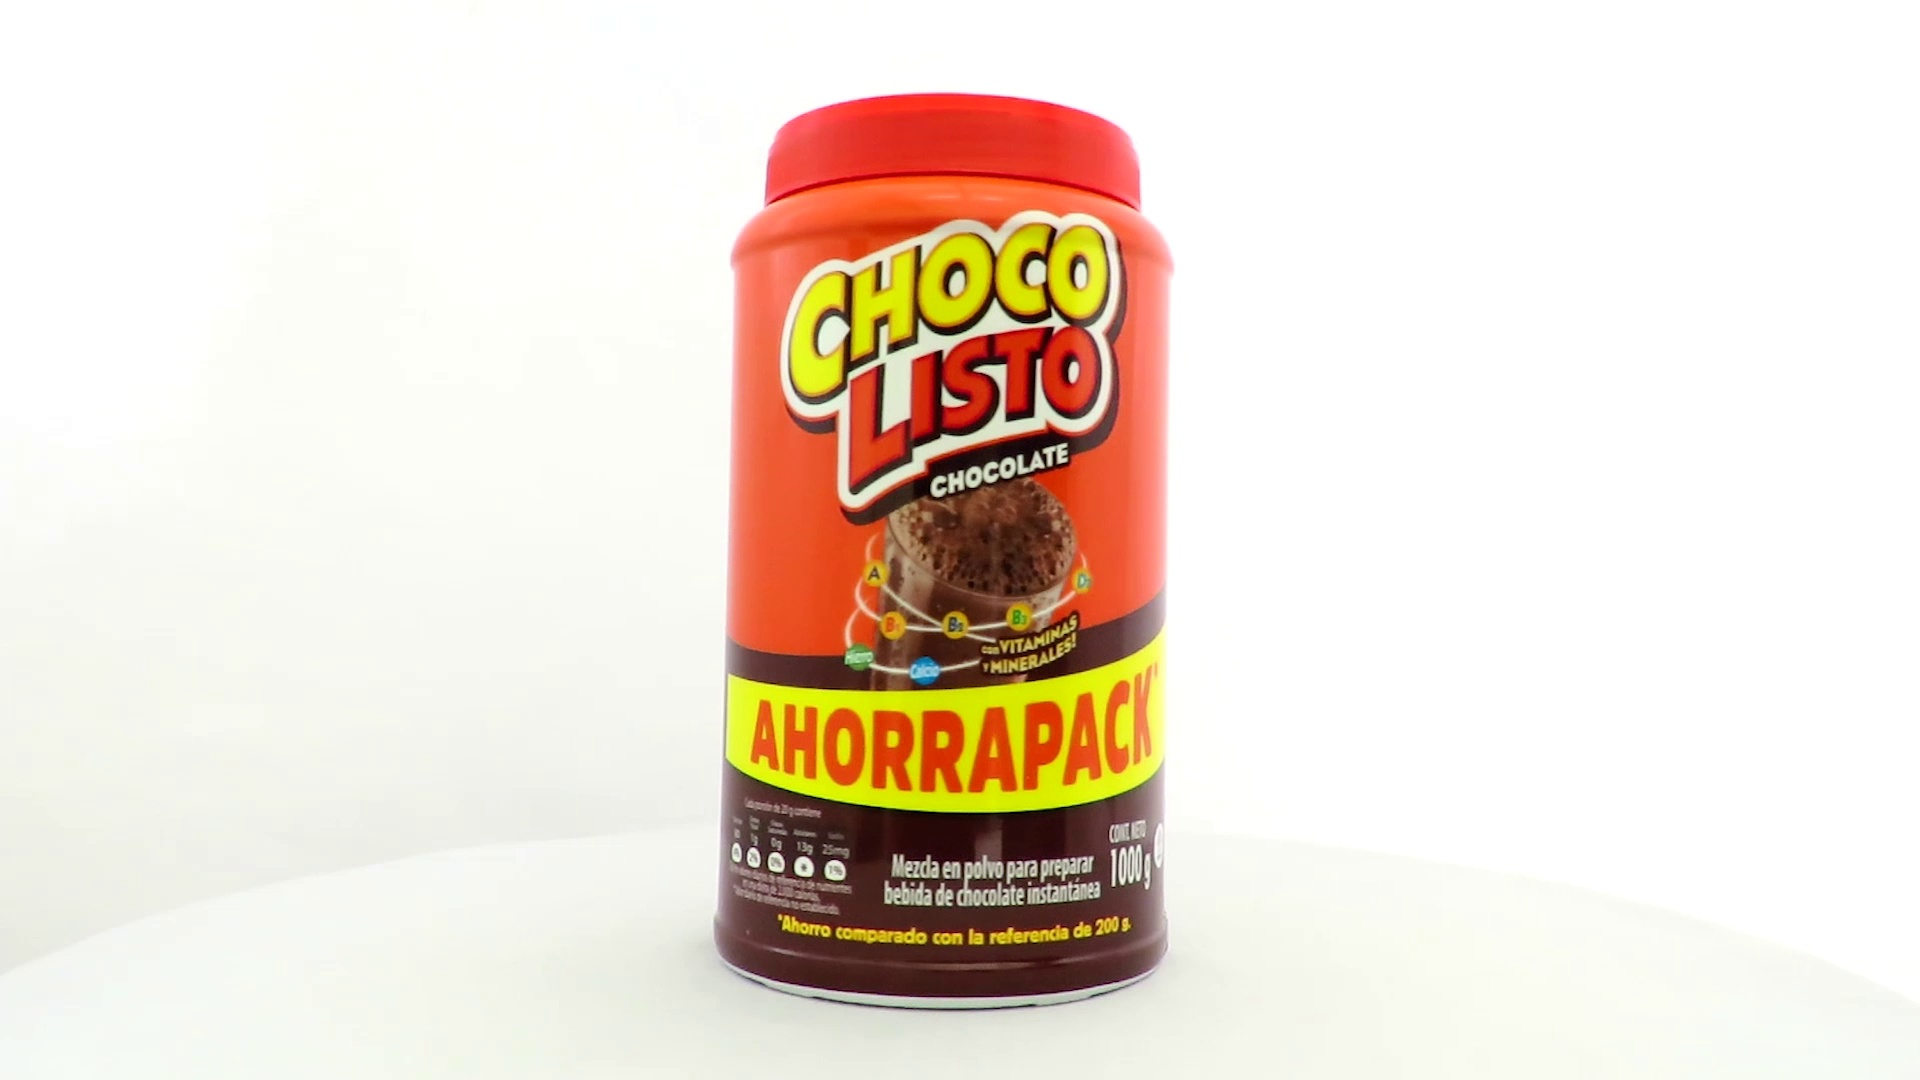COL0170103TRR00100: (708, 88, 1178, 1017)
